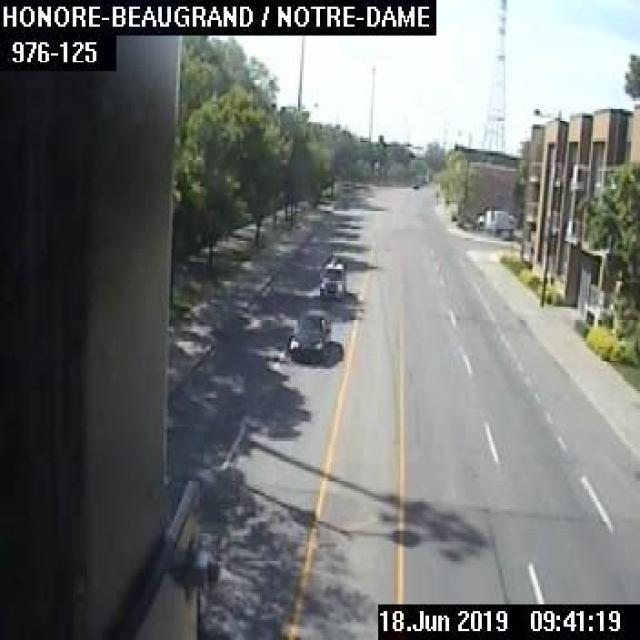vehicle: (289, 308, 330, 362), (316, 254, 344, 298)
